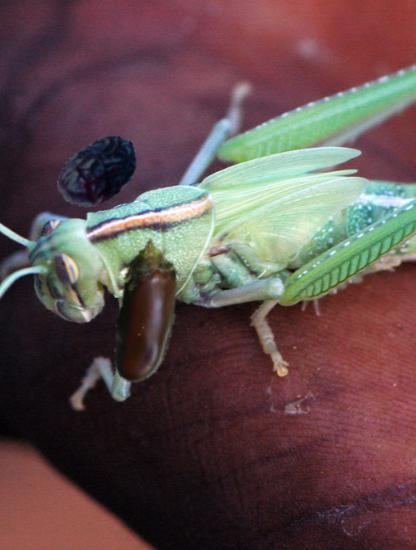Dates: (55, 128, 144, 217)
Eggplant: (71, 237, 221, 387)
